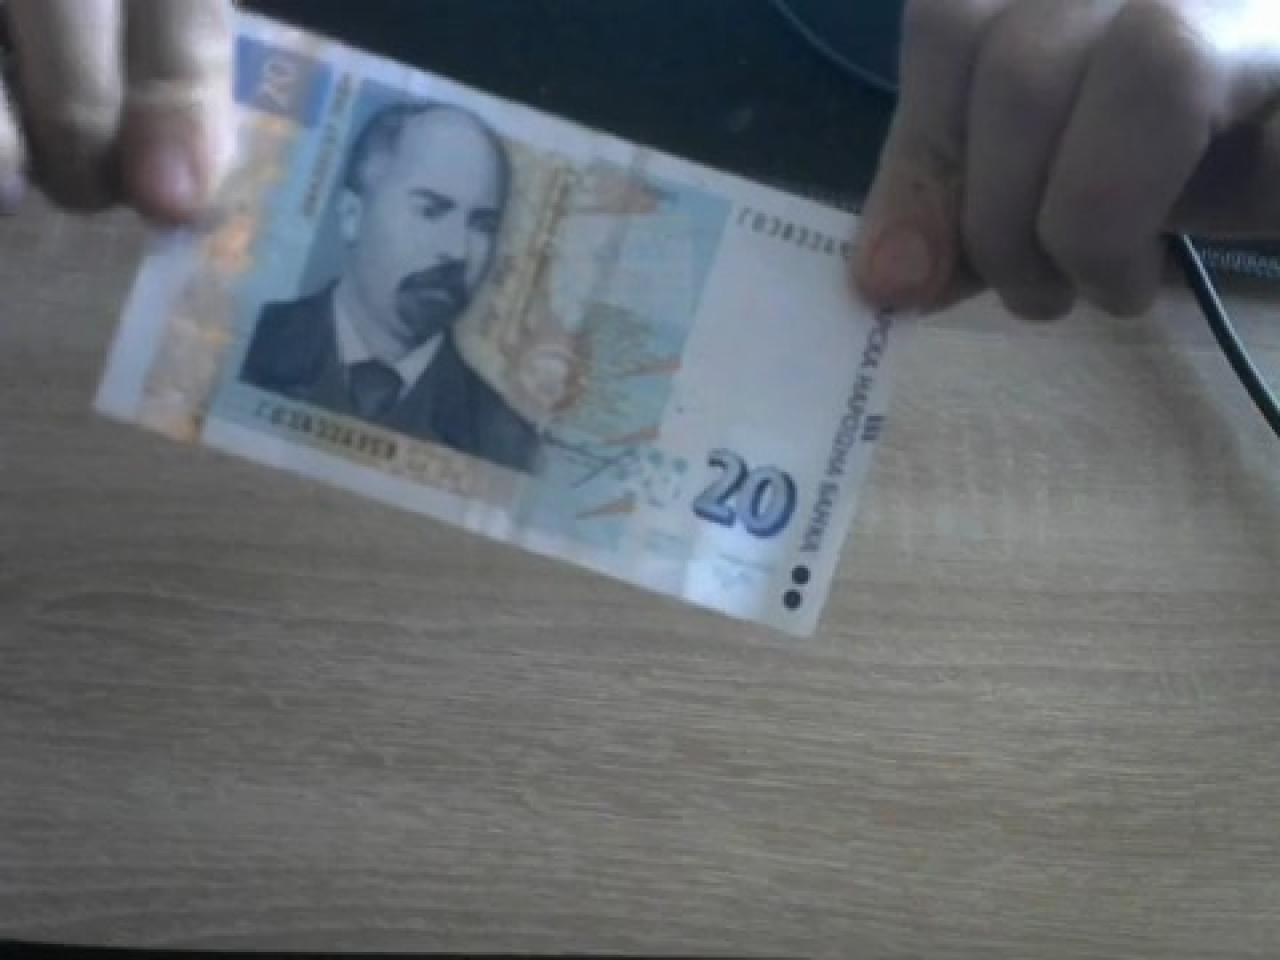20leva: (99, 26, 893, 637)
